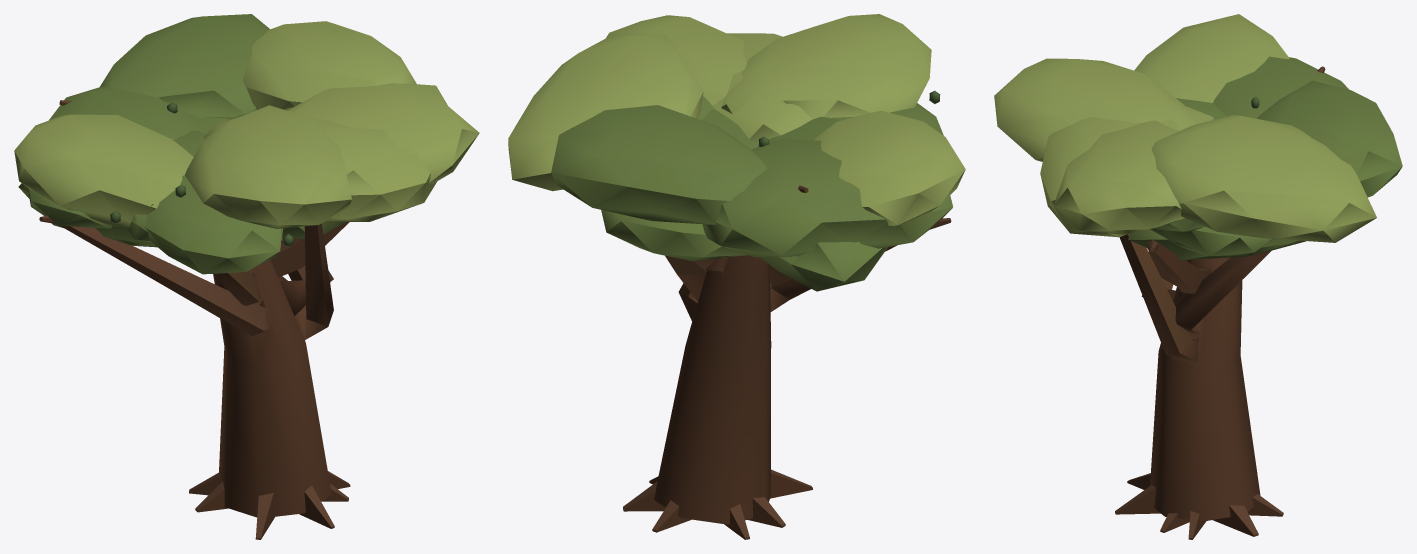
File: tree_olive_b.glb
The picture shows the model from 3 angles, left to right: view 1: azimuth 30°, elevation 25°; view 2: azimuth 150°, elevation 25°; view 3: azimuth 270°, elevation 25°; orthographic projection. The views are drawn at different scales.
Parts seen in each view (by area): view 1: tree_olive_b_LOD0; view 2: tree_olive_b_LOD0; view 3: tree_olive_b_LOD0.
Part boxes in pixels (x1,y1,x2,y2): tree_olive_b_LOD0: (14, 14, 479, 539); tree_olive_b_LOD0: (508, 14, 965, 539); tree_olive_b_LOD0: (994, 14, 1402, 539).
Size of what is drawn, in the model's own units: 3.96 by 4.22 by 3.78.
